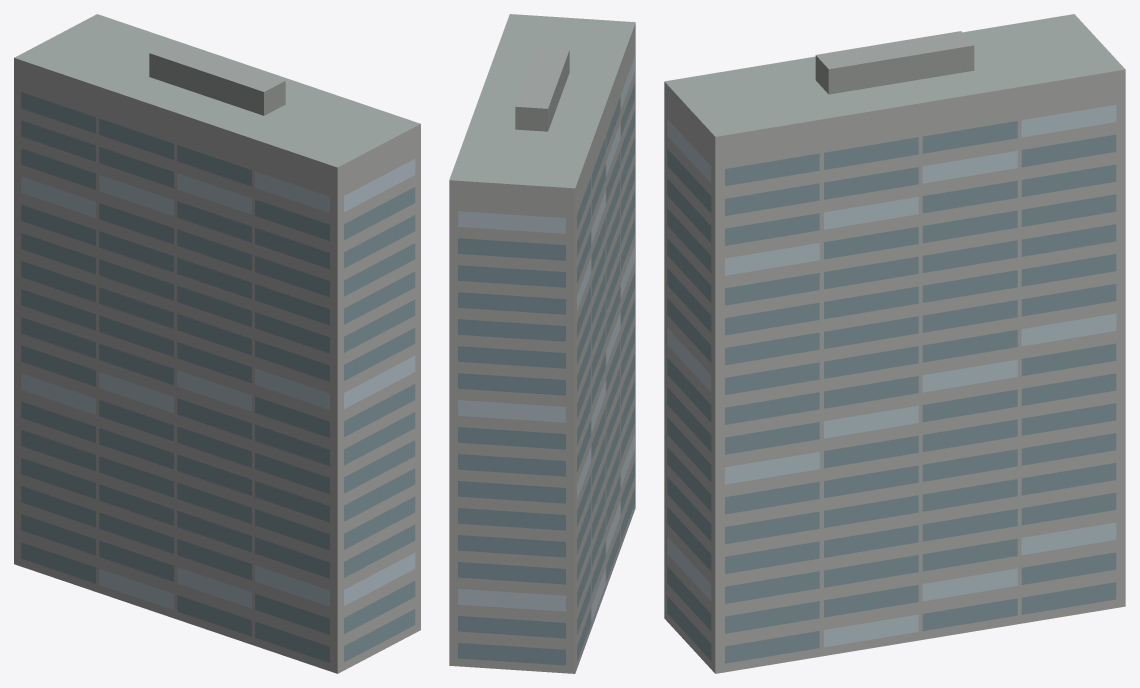
File: fallback-songpa-helio-city-311.glb
3 views of the same model, side by side, from view 1: azimuth 30°, elevation 25°; view 2: azimuth 150°, elevation 25°; view 3: azimuth 270°, elevation 25° (orthographic). The views are drawn at different scales.
Parts seen in each view (by area): view 1: fallback-songpa-helio-city-311; view 2: fallback-songpa-helio-city-311; view 3: fallback-songpa-helio-city-311.
Part boxes in pixels (bbox=[...]): fallback-songpa-helio-city-311: bbox=[14, 14, 420, 673]; fallback-songpa-helio-city-311: bbox=[449, 14, 635, 673]; fallback-songpa-helio-city-311: bbox=[664, 14, 1125, 673].
Size of the model in its own units: 23.91 by 51 by 37.92.
